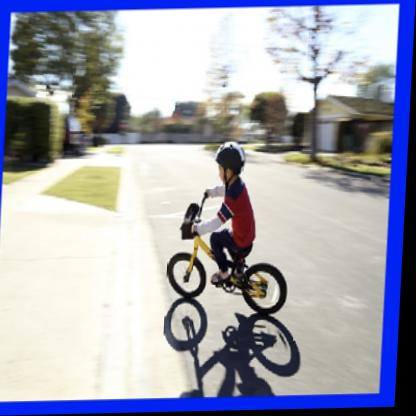With Helmet: (214, 133, 251, 190)
